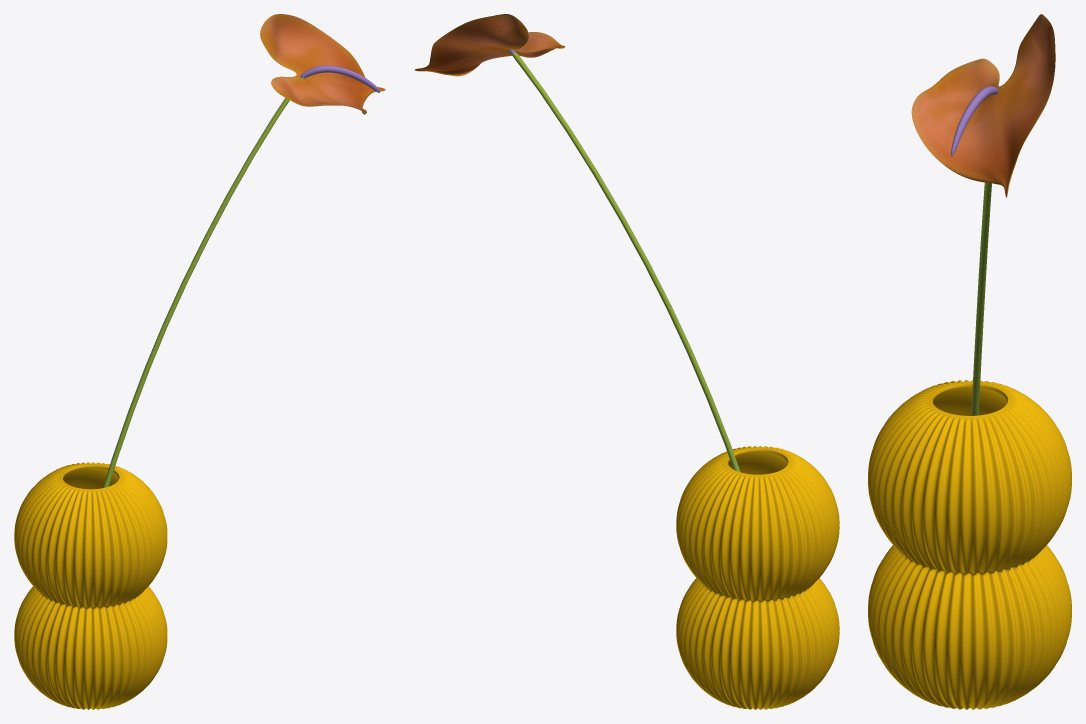
File: VaseFlower1.fbx
The picture shows the model from 3 angles, left to right: view 1: azimuth 30°, elevation 25°; view 2: azimuth 150°, elevation 25°; view 3: azimuth 270°, elevation 25°; orthographic projection. The views are drawn at different scales.
Visible parts, largest first — view 1: Sphere001, flower_01_1, Sweep_NURBS_1; view 2: Sphere001, flower_01_1, Sweep_NURBS_1; view 3: Sphere001, flower_01_1, Sweep_NURBS_1, Object002_1.
Boxes of the visible parts, x1,y1,x2,y2 form: Sphere001: (14, 462, 167, 709); flower_01_1: (260, 14, 385, 114); Sweep_NURBS_1: (103, 78, 304, 487); Sphere001: (676, 446, 839, 709); flower_01_1: (415, 14, 565, 76); Sweep_NURBS_1: (508, 50, 740, 472); Sphere001: (868, 380, 1071, 709); flower_01_1: (911, 14, 1055, 197); Sweep_NURBS_1: (971, 94, 995, 415); Object002_1: (951, 86, 998, 156).
Size of the model in its own units: 44.22 by 68.82 by 15.65.
